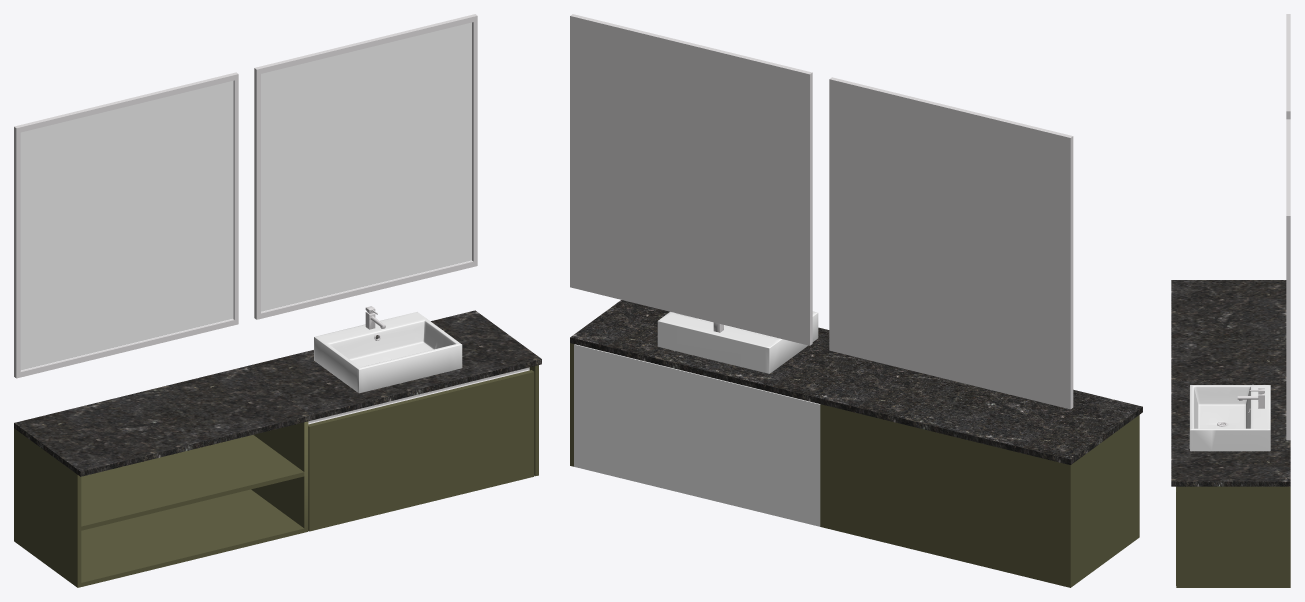
File: TUVA-final.glb
The picture shows the model from 3 angles, left to right: view 1: azimuth 30°, elevation 25°; view 2: azimuth 150°, elevation 25°; view 3: azimuth 270°, elevation 25°; orthographic projection. The views are drawn at different scales.
Visible parts, largest first — view 1: TUVA; view 2: TUVA; view 3: TUVA.
Part boxes in pixels (x1,y1,x2,y2): TUVA: (14, 14, 541, 587); TUVA: (570, 14, 1142, 587); TUVA: (1171, 14, 1290, 587).
Bounding box in the file's own units: 1.83 × 1.57 × 0.4584.
7 materials, 1 textured.
